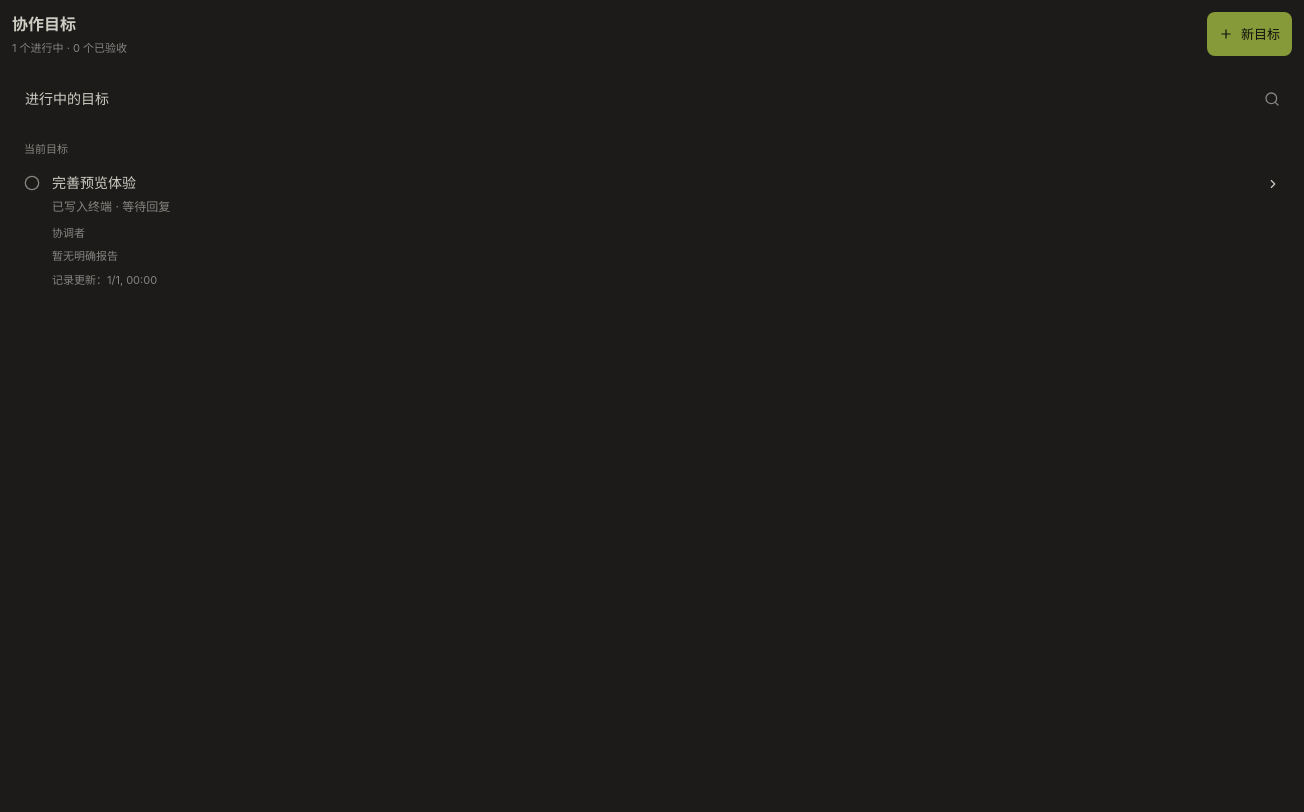
Scenario: collaboration goal journeys › keeps failed feedback and retries using the same request key
Click the button "完善预览体验 已写入终端 · 等待回复 协调者 暂无明确报告 记录更新：1/1, 00:00". click: click(652, 231)
box: x1=12 y1=161 x2=1292 y2=302
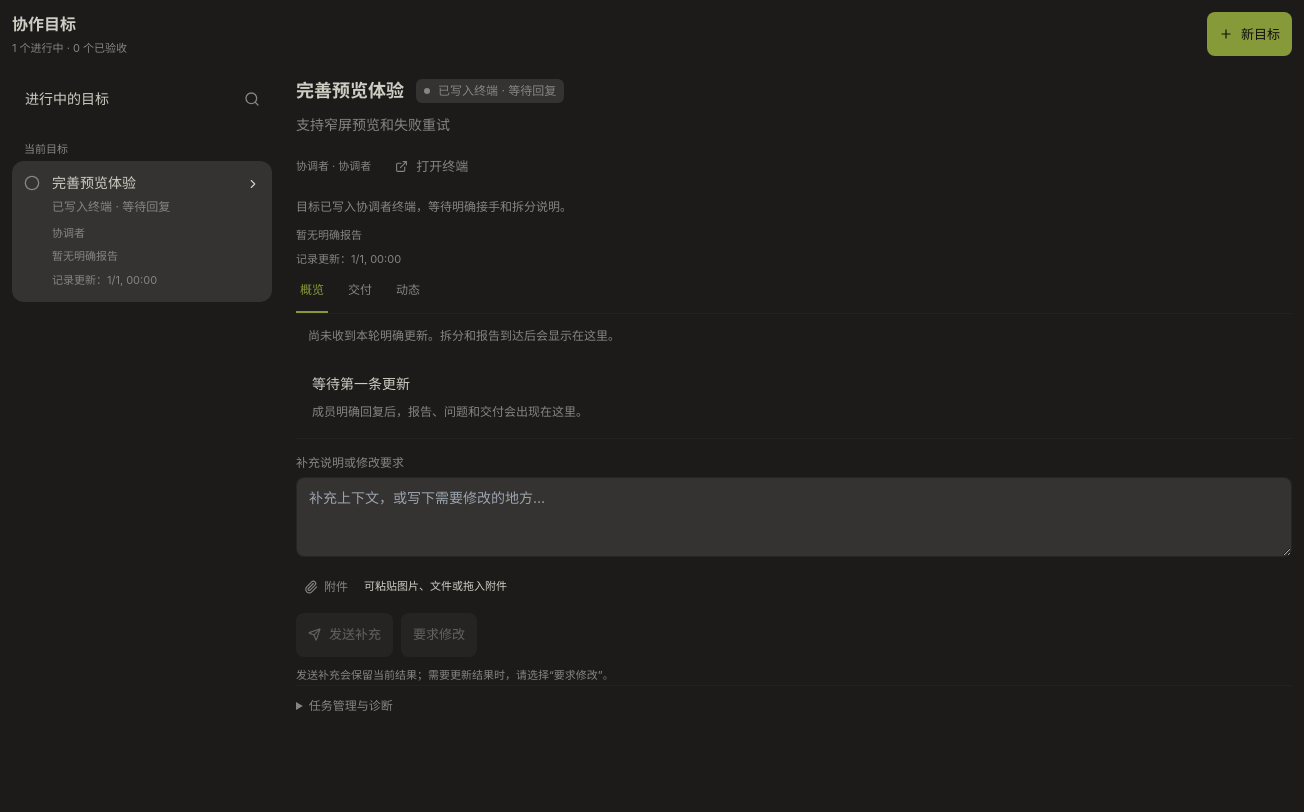
Type "追加磁盘统计" into the text box labelled "补充说明或修改要求". click: (794, 516)
box: x1=296 y1=476 x2=1292 y2=556
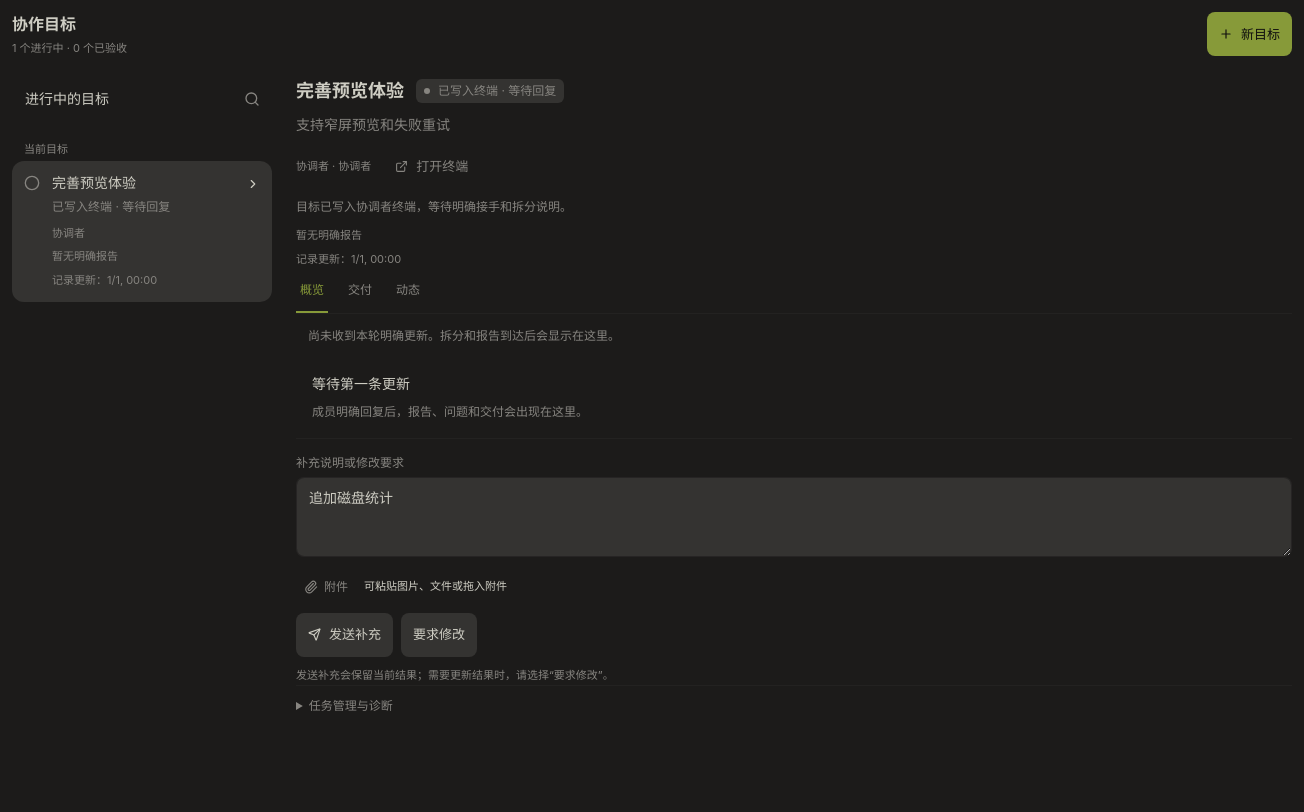
Click the button "发送补充". click: click(344, 634)
box: x1=296 y1=612 x2=393 y2=656
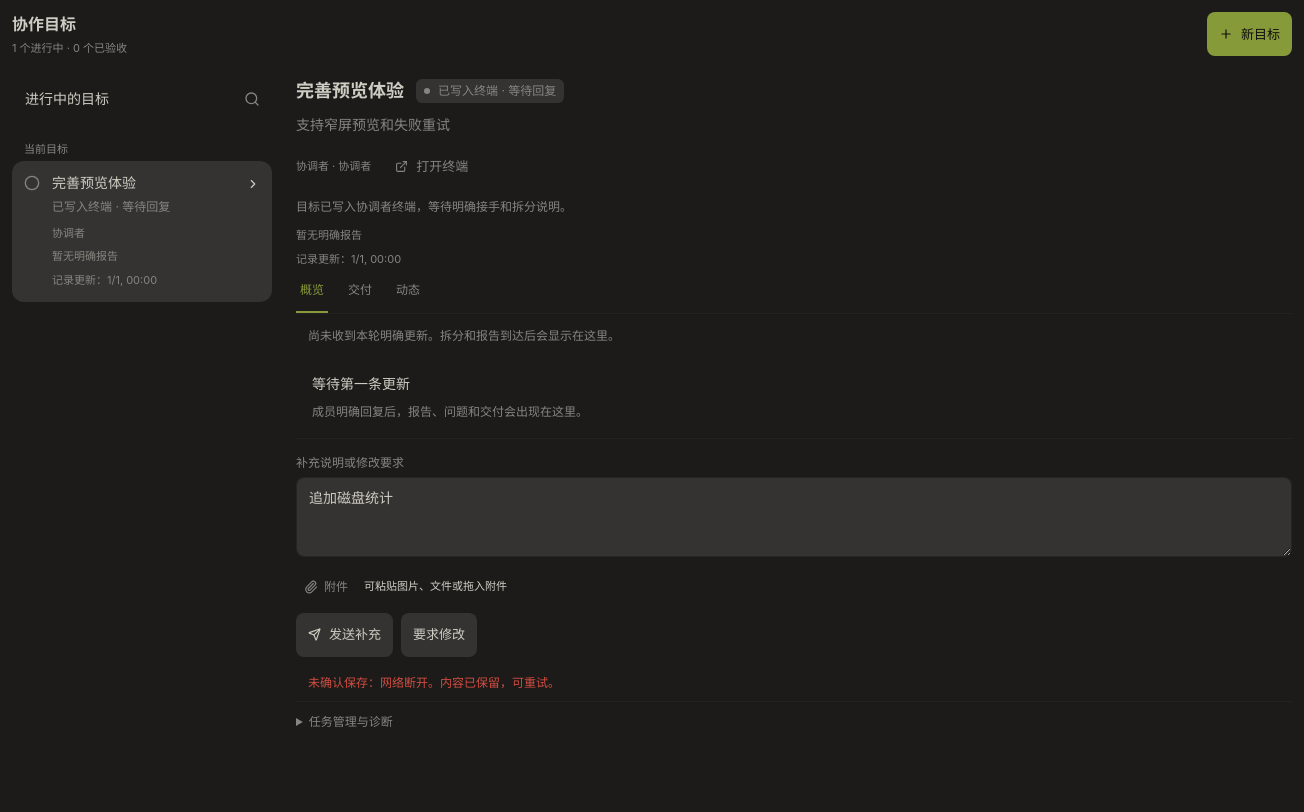
Check: the text "未确认保存：网络断开。内容已保留，可重试。" is shown, box x1=308 y1=674 x2=560 y2=690
Click the button "发送补充". click: click(344, 634)
box: x1=296 y1=612 x2=393 y2=656
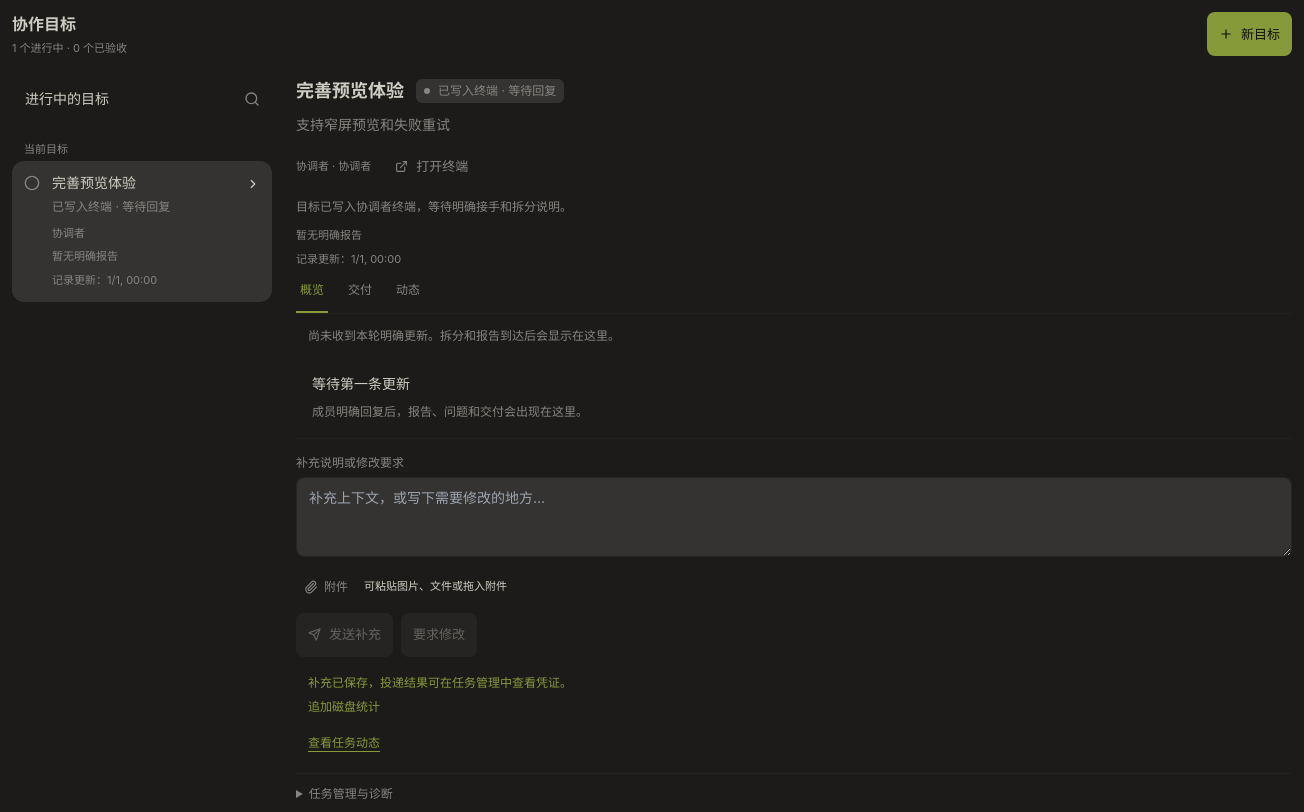
Check: the text "补充已保存，投递结果可在任务管理中查看凭证。" is shown, box x1=308 y1=674 x2=572 y2=690
Check: the text box labelled "补充说明或修改要求" is empty, box x1=296 y1=476 x2=1292 y2=556
